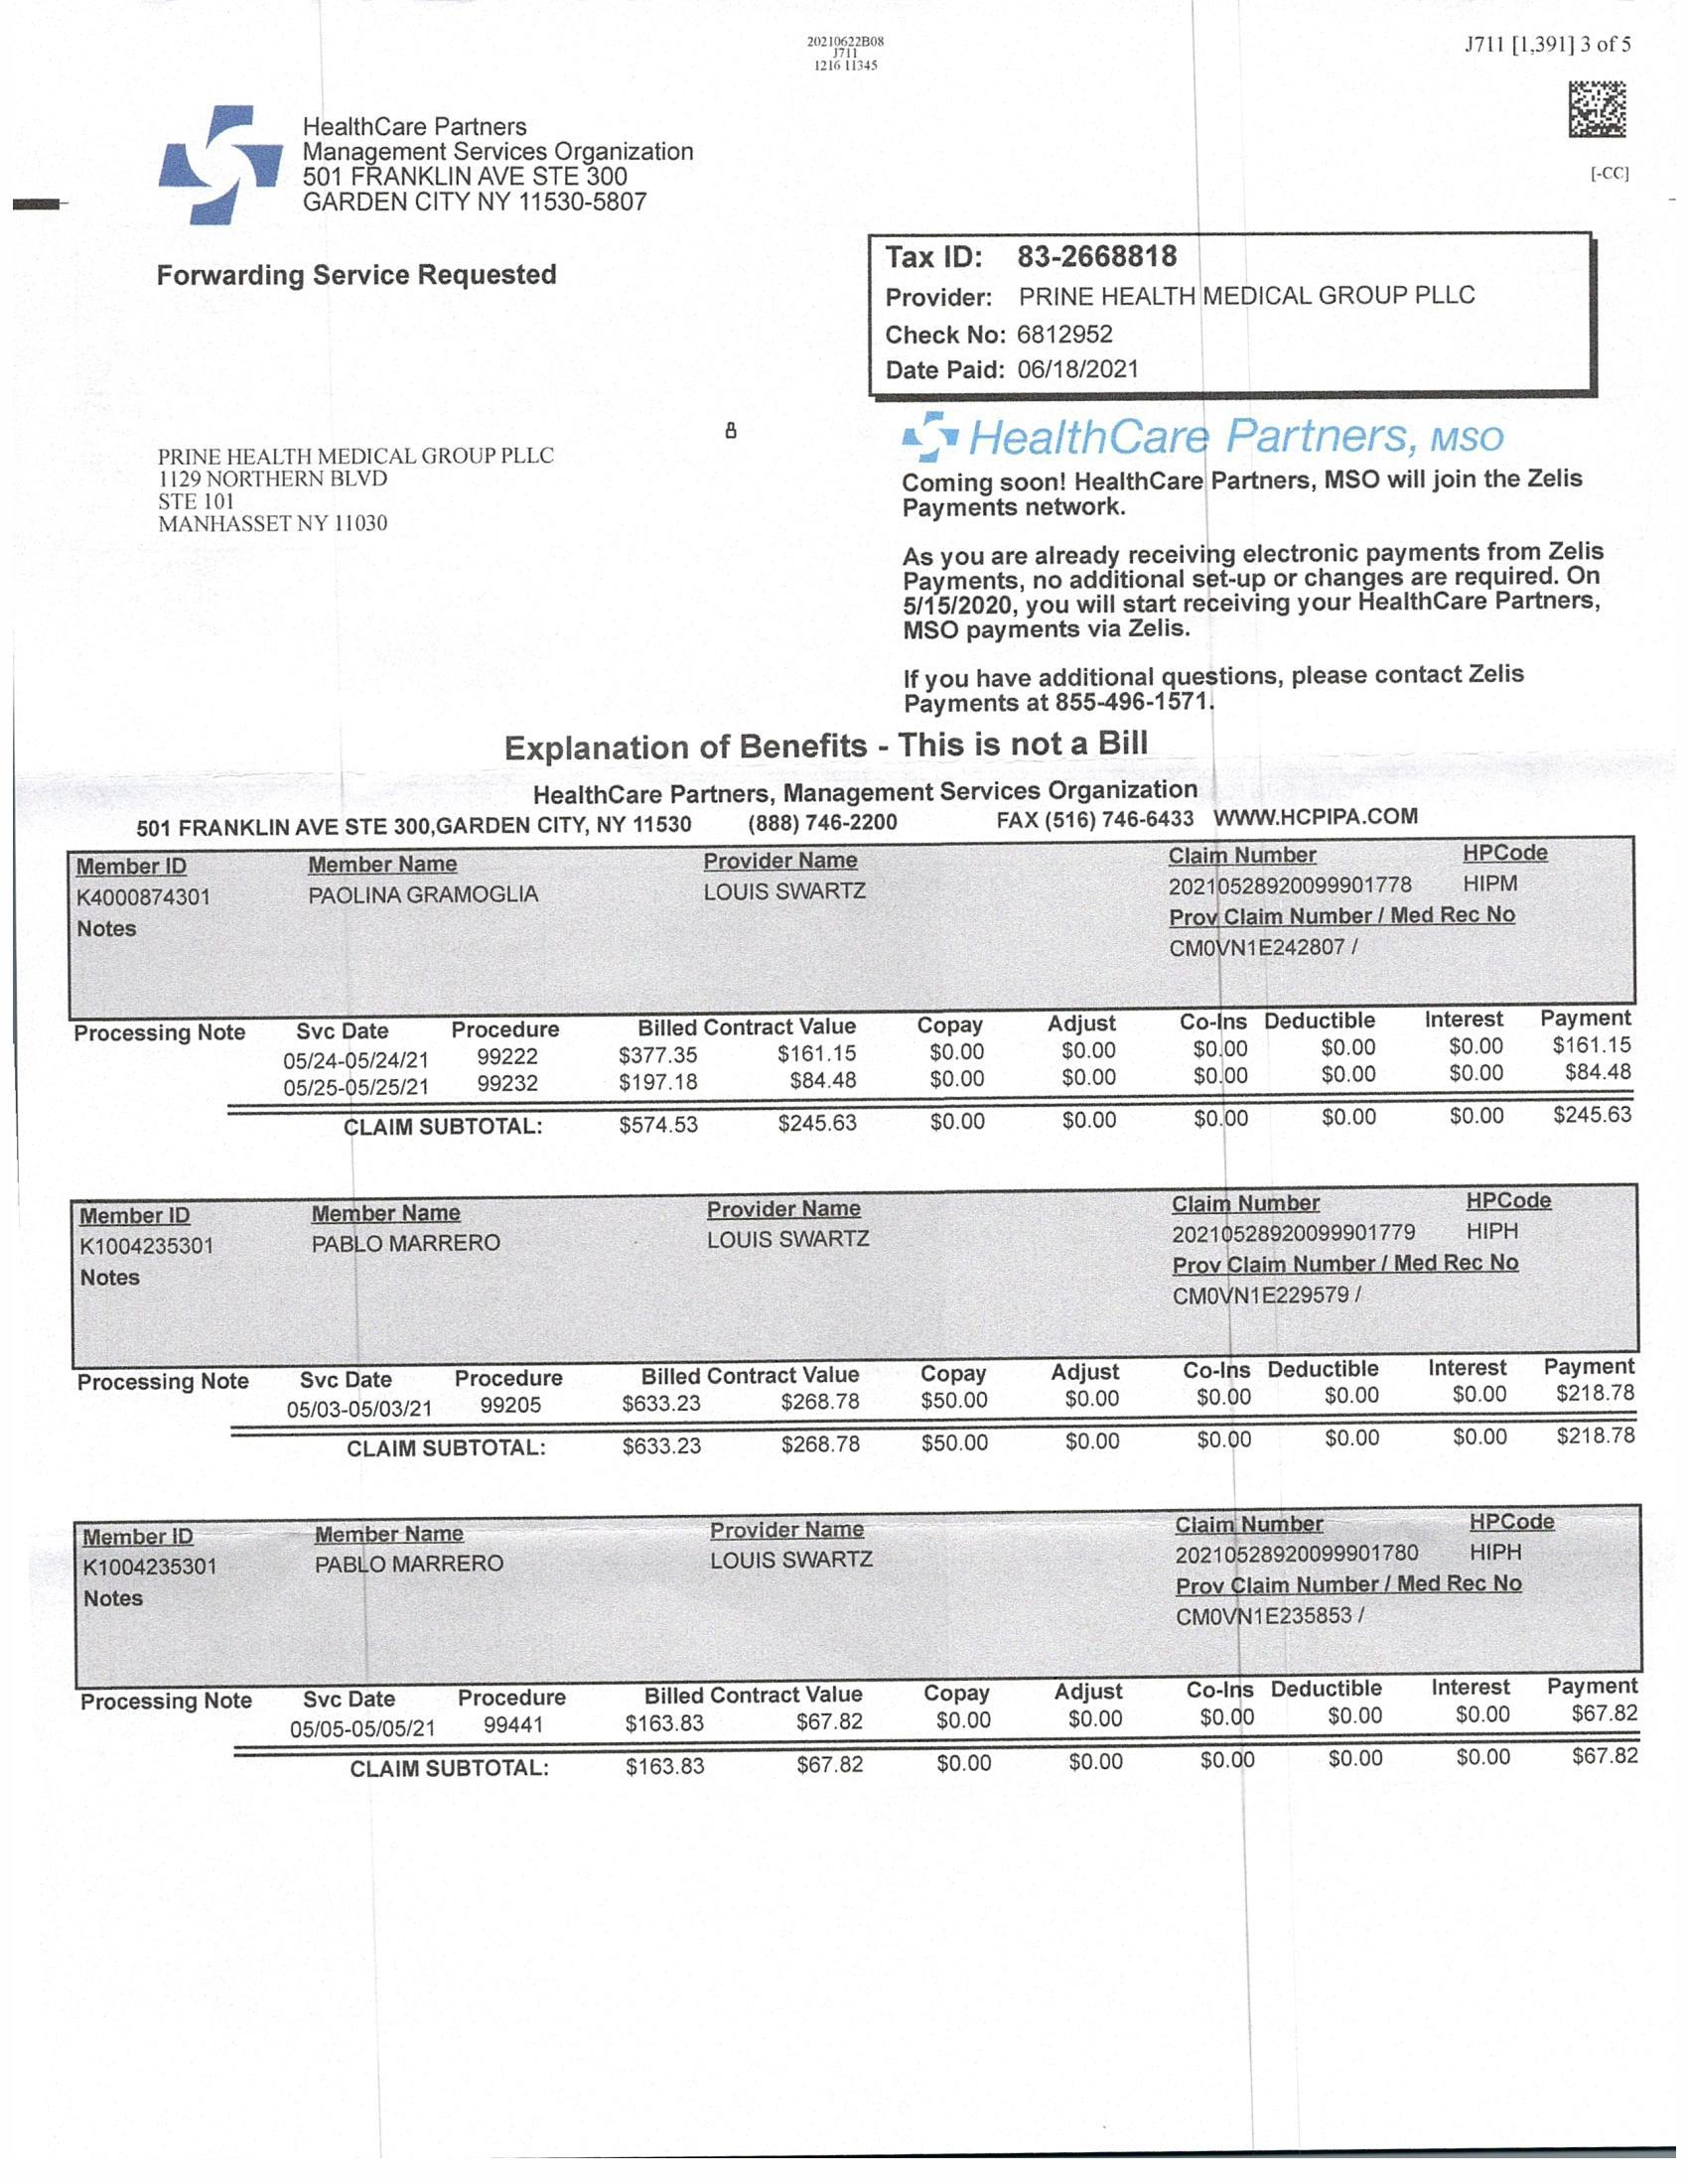data: (64, 1175, 1652, 1360), (64, 1512, 1659, 1681), (858, 225, 1616, 415)
table: (53, 842, 1646, 1012), (62, 1021, 1657, 1142), (69, 1673, 1662, 1774), (62, 1363, 1654, 1461)
